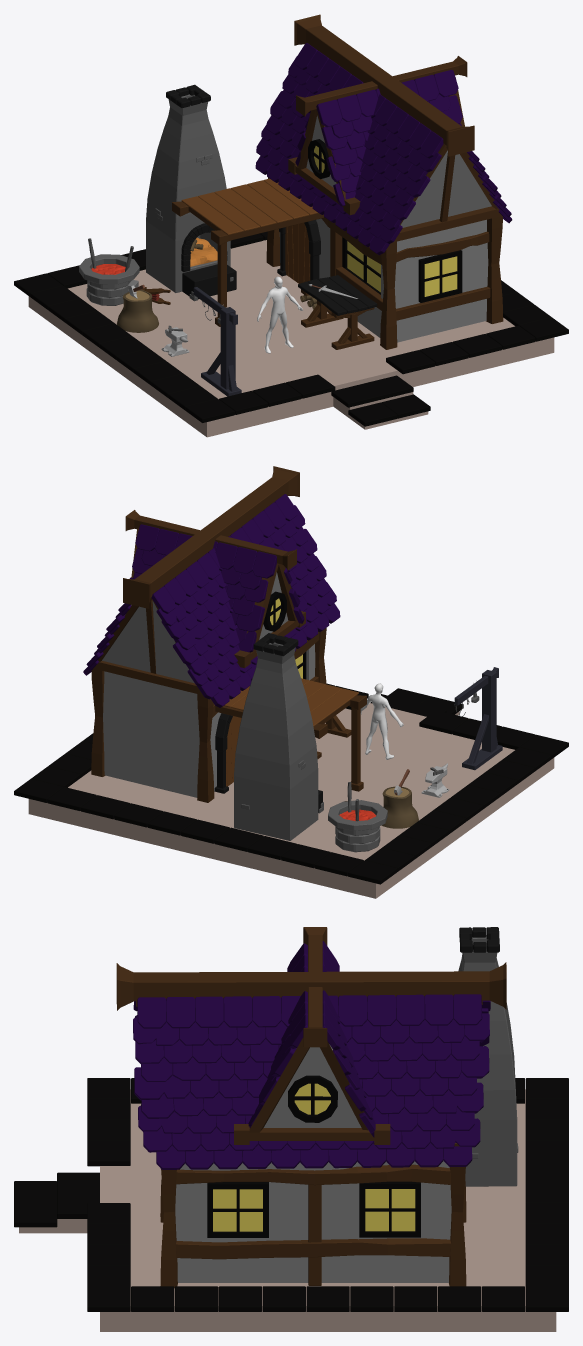
Rendered from BlackSmithPlace_for_unity.fbx.
3 renders of one model, top to bottom at view 1: azimuth 30°, elevation 25°; view 2: azimuth 150°, elevation 25°; view 3: azimuth 270°, elevation 25°, orthographic. The views are drawn at different scales.
Parts seen in each view (by area): view 1: Plane, stones, roof.001, house, Forge_base, roof.003, Object, small_roof.004, house_supports, window.004, tools_rack, table_top (+19 smaller); view 2: Plane, stones, roof.001, house, Forge_base, roof.004, Object, house_supports, tools_rack, small_roof.004, Cube.002, well_top (+8 smaller); view 3: roof.002, stones, Plane, house, Object, Forge_base, frame.003, frame.004, house_supports, window.001, window.002, roof.004 (+8 smaller).
Boxes of the visible parts, bbox=[...] form: Plane: bbox=[28, 240, 554, 437]; stones: bbox=[14, 231, 568, 426]; roof.001: bbox=[255, 43, 443, 255]; house: bbox=[279, 115, 491, 342]; Forge_base: bbox=[146, 94, 230, 292]; roof.003: bbox=[316, 69, 462, 206]; Object: bbox=[294, 14, 474, 156]; small_roof.004: bbox=[181, 178, 318, 235]; house_supports: bbox=[266, 177, 503, 349]; window.004: bbox=[418, 250, 462, 302]; tools_rack: bbox=[193, 287, 241, 396]; table_top: bbox=[298, 275, 377, 315]; Plane: bbox=[28, 703, 554, 898]; stones: bbox=[14, 683, 568, 884]; roof.001: bbox=[151, 494, 340, 707]; house: bbox=[102, 572, 315, 797]; Forge_base: bbox=[234, 642, 318, 840]; roof.004: bbox=[129, 524, 276, 652]; Object: bbox=[123, 466, 299, 608]; house_supports: bbox=[91, 628, 326, 802]; tools_rack: bbox=[454, 667, 502, 770]; small_roof.004: bbox=[224, 678, 358, 726]; Cube.002: bbox=[125, 510, 296, 570]; well_top: bbox=[328, 800, 387, 830]; roof.002: bbox=[133, 994, 489, 1169]; stones: bbox=[14, 1078, 568, 1311]; Plane: bbox=[19, 1089, 556, 1331]; house: bbox=[175, 1044, 451, 1282]; Object: bbox=[116, 962, 506, 1010]; Forge_base: bbox=[458, 935, 517, 1186]; frame.003: bbox=[176, 1238, 450, 1259]; frame.004: bbox=[176, 1164, 450, 1185]; house_supports: bbox=[160, 1143, 466, 1288]; window.001: bbox=[359, 1181, 420, 1237]; window.002: bbox=[207, 1182, 268, 1237]; roof.004: bbox=[322, 941, 375, 1137].
Bounding box in the file's own units: 960 × 601 × 985.
